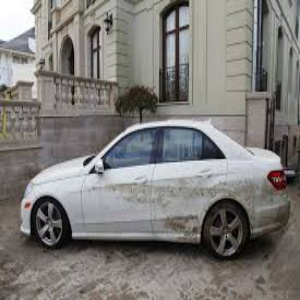door_scratch: (81, 175, 205, 239)
